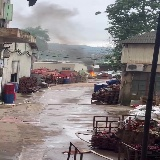fire: (90, 72, 97, 76)
